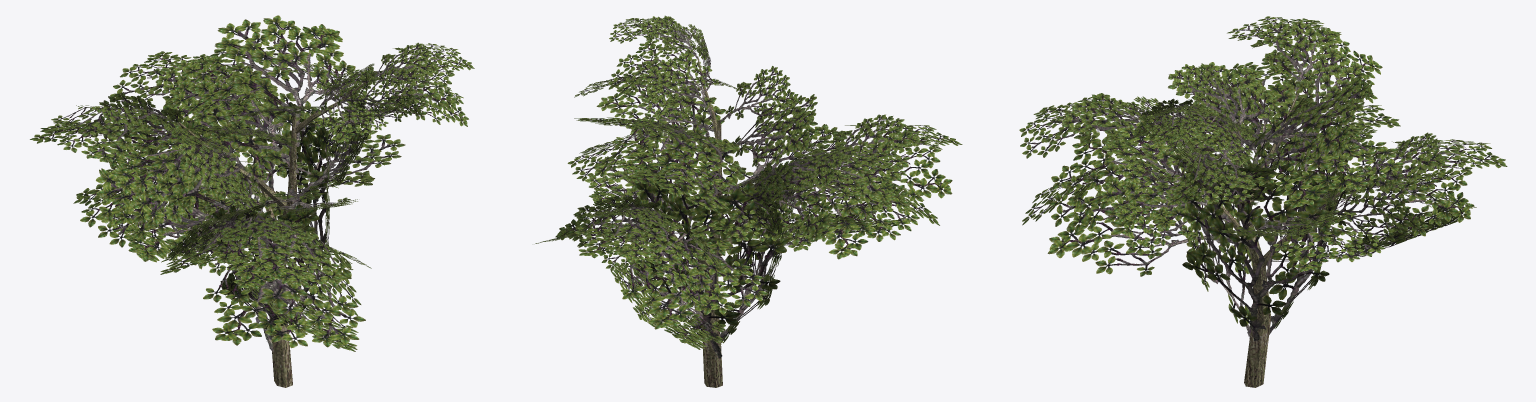
The model's file is tropic_forest_biome_tree_3.glb.
3 renders of one model, left to right at view 1: azimuth 30°, elevation 25°; view 2: azimuth 150°, elevation 25°; view 3: azimuth 270°, elevation 25°, orthographic. The views are drawn at different scales.
Visible parts, largest first — view 1: tropic_forest_biome_tree_3; view 2: tropic_forest_biome_tree_3; view 3: tropic_forest_biome_tree_3.
Part boxes in pixels (x1=…): tropic_forest_biome_tree_3: x1=30, y1=15, x2=474, y2=387; tropic_forest_biome_tree_3: x1=535, y1=15, x2=962, y2=387; tropic_forest_biome_tree_3: x1=1019, y1=16, x2=1507, y2=387.
Size of the model in its own units: 7.7 by 6.37 by 9.21.
Materials: 1 (1 with a texture image).
